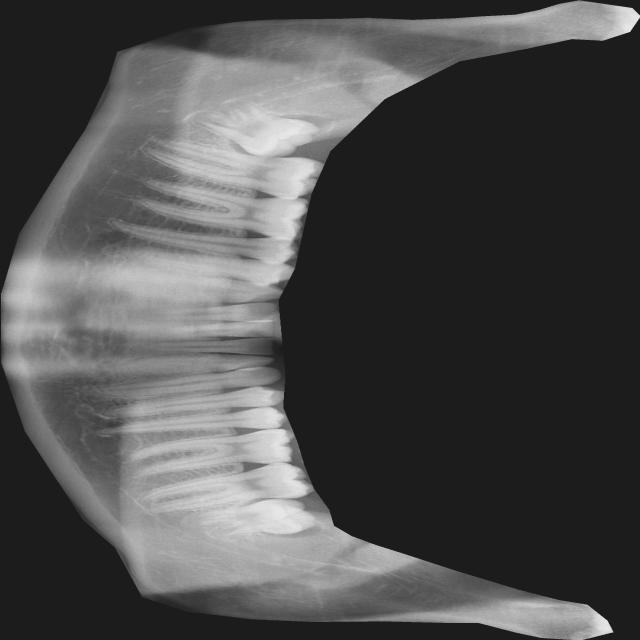mandibula: (0, 0, 640, 640)
